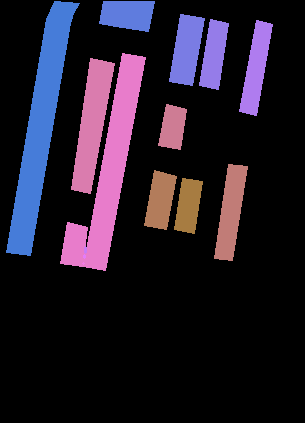parkingspot: (6, 1, 79, 255), (83, 53, 145, 270), (71, 58, 114, 193), (214, 164, 247, 260), (239, 20, 272, 115), (169, 14, 204, 85), (199, 19, 228, 89), (144, 170, 176, 229), (174, 178, 202, 233), (158, 104, 186, 149), (60, 222, 87, 266), (122, 1, 154, 31), (99, 1, 126, 27)
